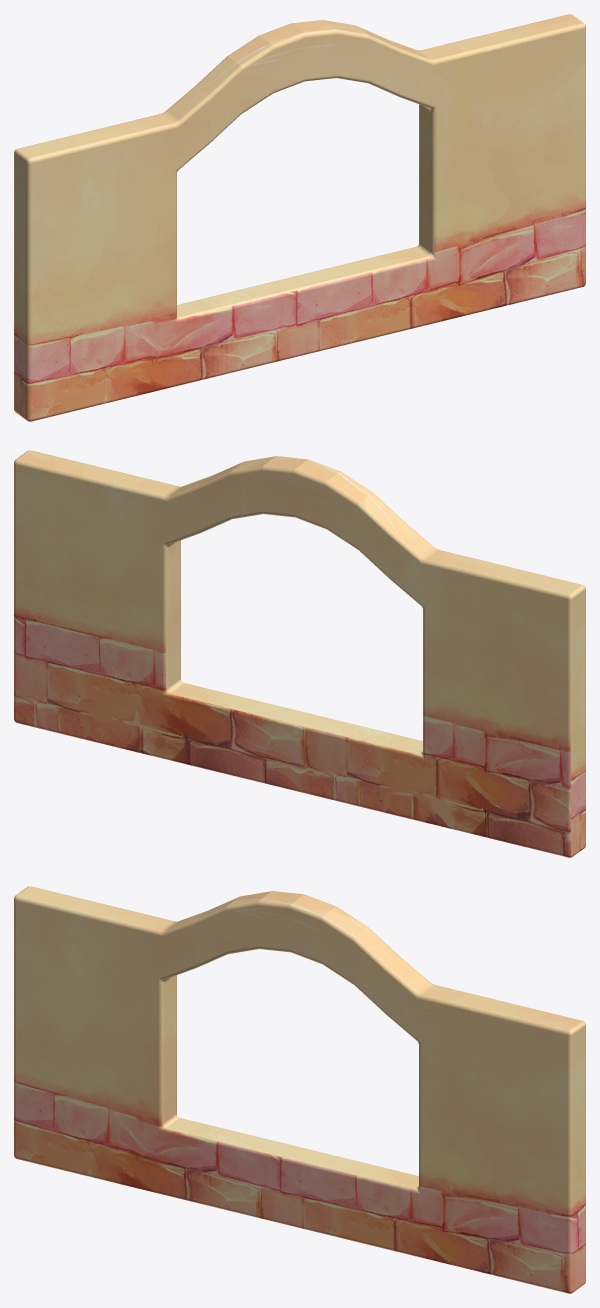
The model's file is Pared_frontal.fbx.
The picture shows the model from 3 angles, top to bottom: view 1: azimuth 30°, elevation 25°; view 2: azimuth 150°, elevation 25°; view 3: azimuth 330°, elevation 25°; orthographic projection.
Parts seen in each view (by area): view 1: Pared_frontal; view 2: Pared_frontal; view 3: Pared_frontal.
Boxes of the visible parts, <box> form: Pared_frontal: <box>14,14,585,421</box>; Pared_frontal: <box>14,450,585,857</box>; Pared_frontal: <box>14,886,585,1293</box>.
Size of the model in its own units: 1997 by 1100 by 99.14.
